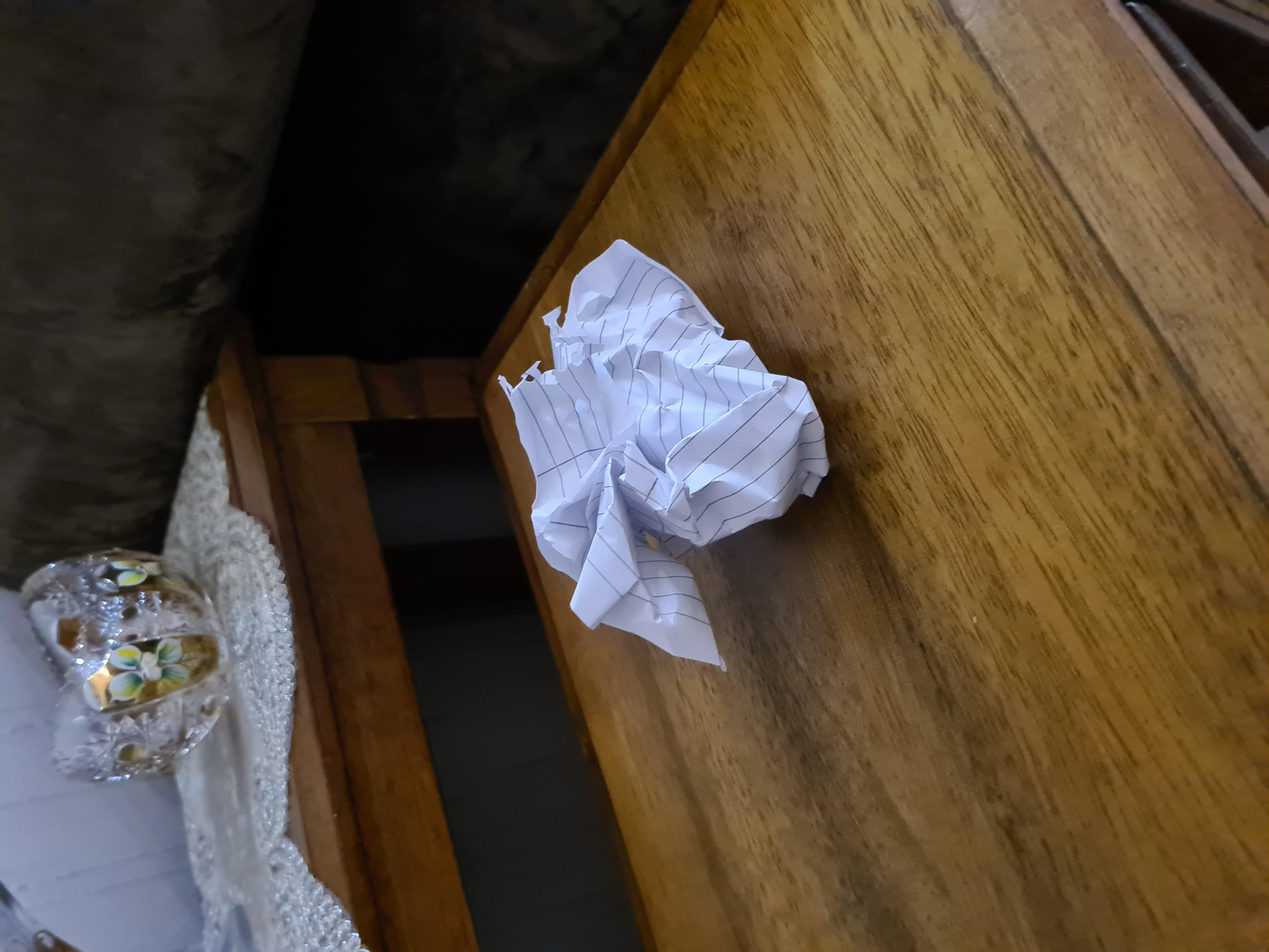paper: (412, 378, 937, 624)
